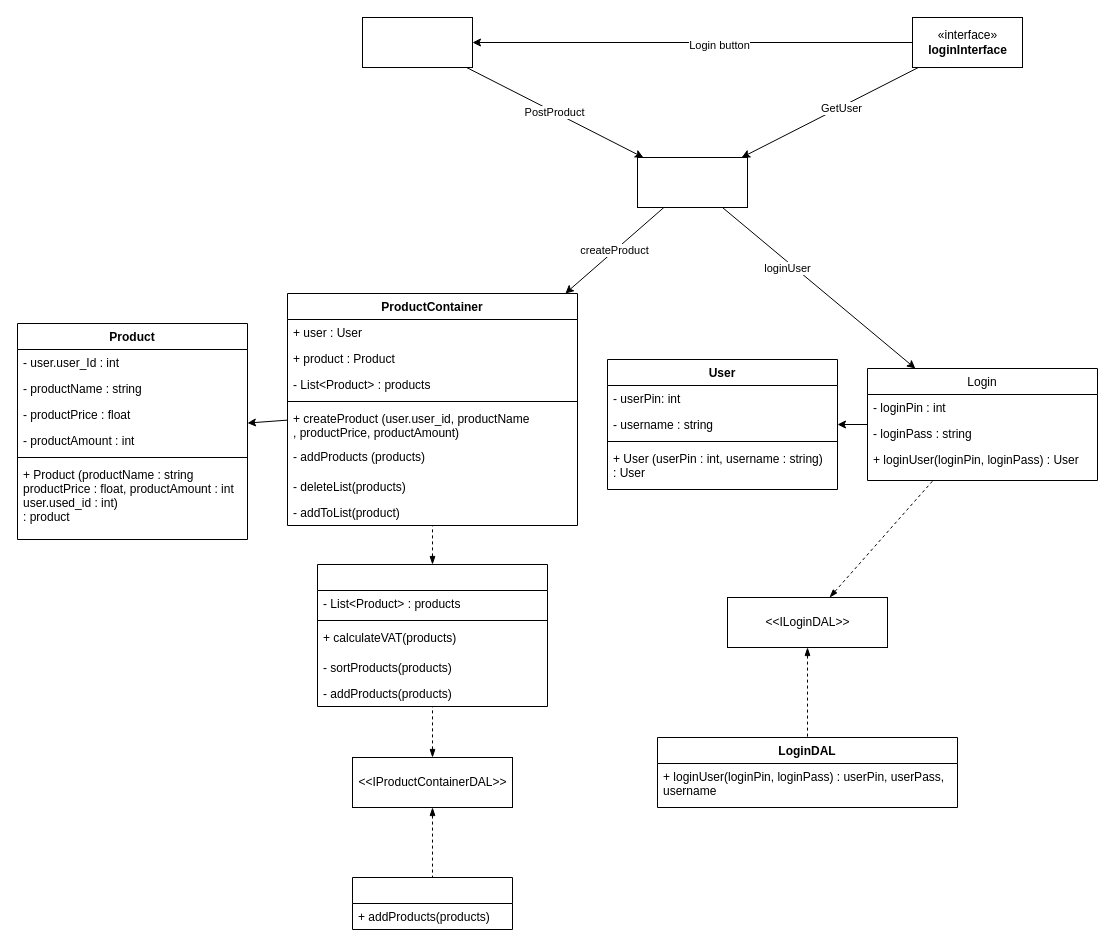
This 1115x950 diagram has some shape labels left out. Here are the shapes that lost their labels. From the top down, the box of each, then its label:
(362, 16, 472, 68): «interface» kassaInterface
(636, 156, 748, 208): API gateway
(316, 564, 548, 706): RevenueContainer
(352, 876, 512, 930): ProductDAL
